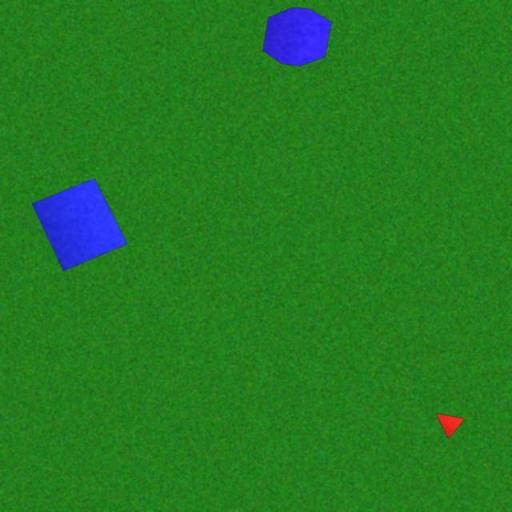BLUE_SQUARE: (31, 178, 129, 271)
